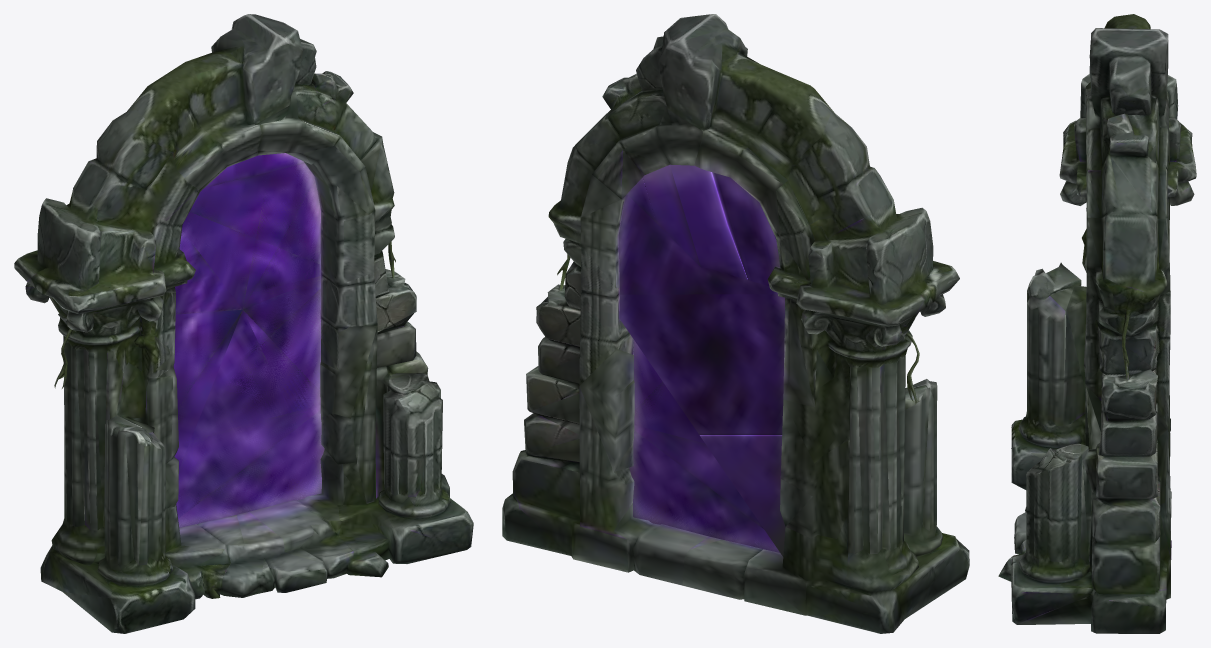
Rendered from prop-portal.glb.
3 views of the same model, side by side, from view 1: azimuth 30°, elevation 25°; view 2: azimuth 150°, elevation 25°; view 3: azimuth 270°, elevation 25° (orthographic). The views are drawn at different scales.
Bounding box in the file's own units: 0.7989 × 1 × 0.3453.
Materials: 1 (1 with a texture image).
